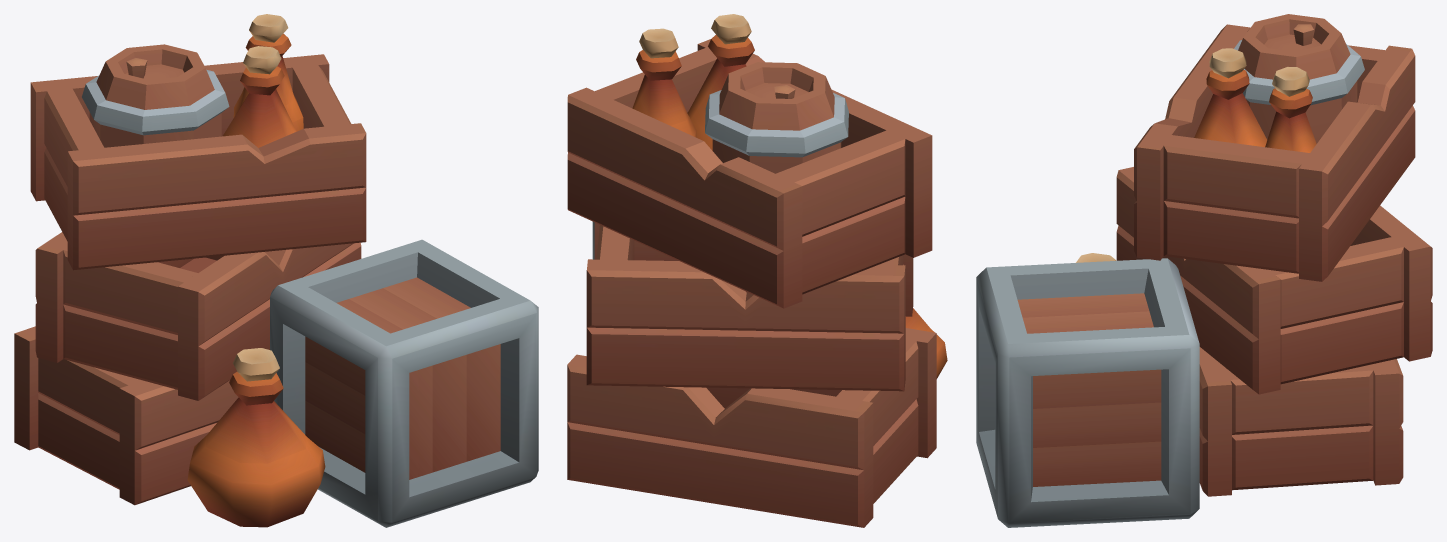
Rendered from crates_stacked.gltf.glb.
3 views of the same model, side by side, from view 1: azimuth 30°, elevation 25°; view 2: azimuth 150°, elevation 25°; view 3: azimuth 270°, elevation 25° (orthographic). The views are drawn at different scales.
Visible parts, largest first — view 1: crates_stacked; view 2: crates_stacked; view 3: crates_stacked.
Part boxes in pixels (x1=…): crates_stacked: x1=14, y1=14, x2=538, y2=527; crates_stacked: x1=567, y1=14, x2=947, y2=527; crates_stacked: x1=976, y1=14, x2=1432, y2=527.
Bounding box in the file's own units: 2.09 × 2.14 × 2.25.
Materials: 1 (1 with a texture image).
